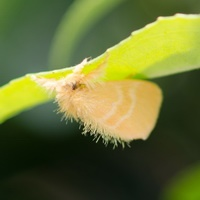insect: (0, 14, 199, 147), (29, 59, 162, 147)
